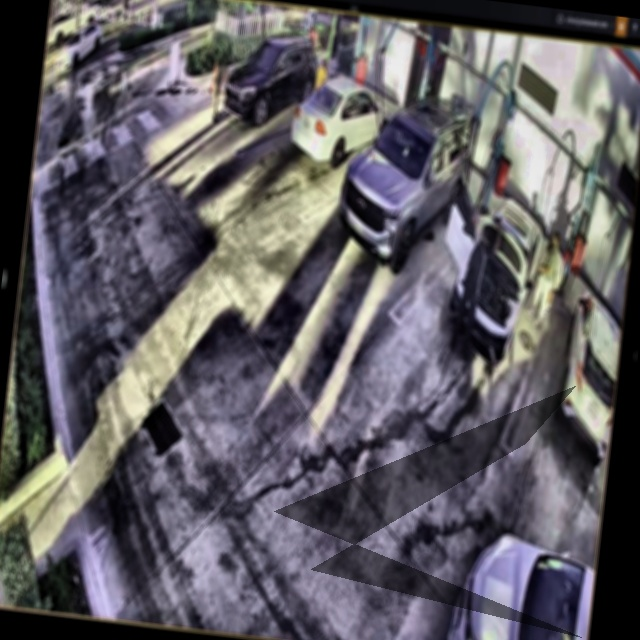Car: (334, 88, 478, 280), (435, 177, 549, 366), (288, 72, 393, 174)
